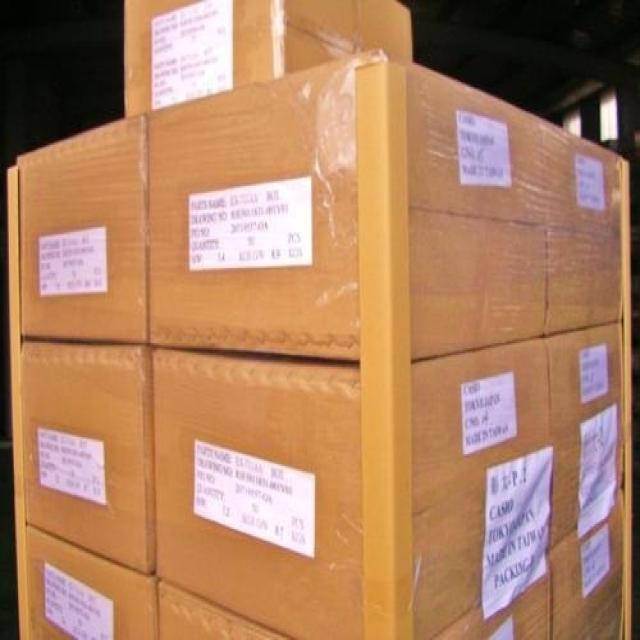box: (146, 56, 359, 361), (152, 345, 364, 638), (406, 59, 546, 361), (411, 337, 550, 638), (124, 0, 412, 118), (21, 340, 155, 575), (18, 112, 148, 344), (542, 322, 624, 549), (541, 119, 624, 337), (26, 525, 159, 638), (550, 487, 624, 638), (431, 555, 551, 638), (157, 579, 289, 638)
